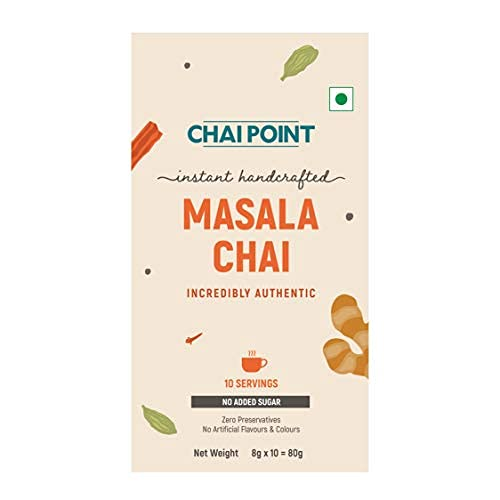-: (346, 213, 353, 221)
CHAI: (214, 240, 289, 272)
CHAIPOINT: (187, 117, 315, 159)
MASALA: (184, 198, 319, 230)
